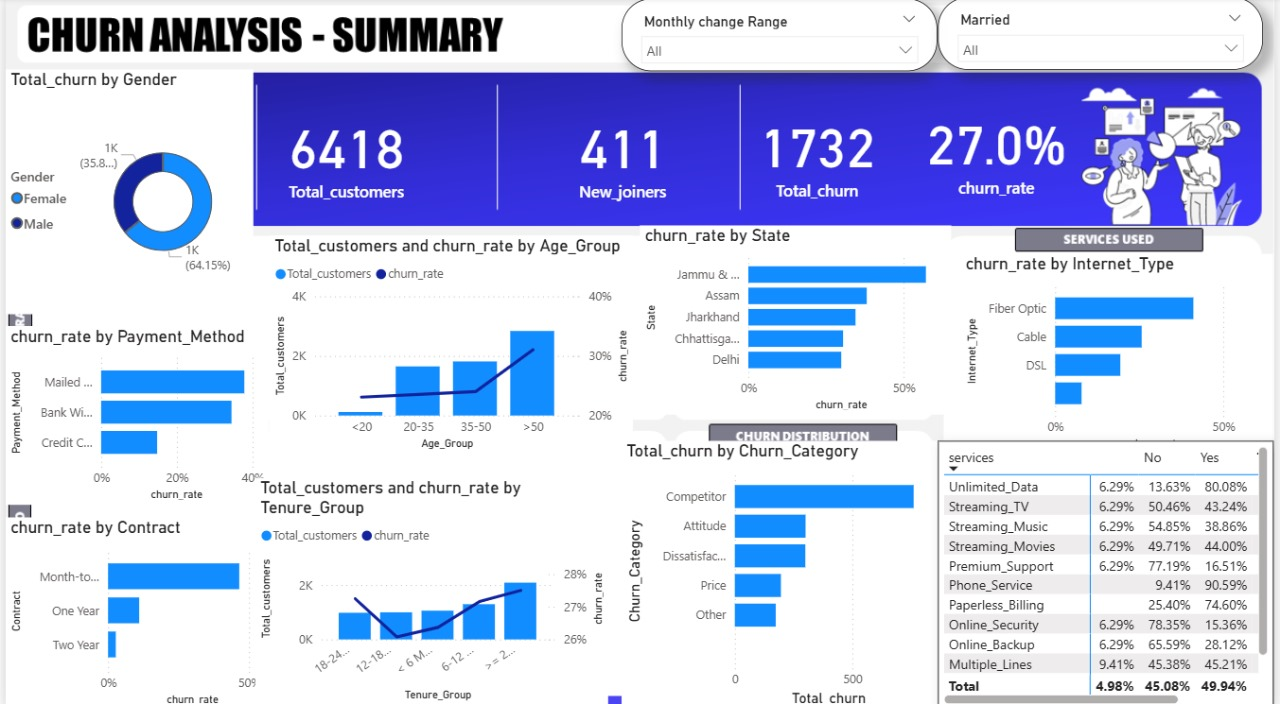

This screenshot's page, from the dashboard's own definition file:
{"tool":"powerbi","page":{"name":"summary","canvas":[1280,720],"ordinal":0},"visuals":[{"type":"card","fields":{"Values":["Table_measures.Total_customers"]},"box":[237.9,73.1,211.4,167.9],"z":0},{"type":"card","fields":{"Values":["Table_measures.New_joiners"]},"box":[548.8,79.3,147.7,157],"z":1000},{"type":"card","fields":{"Values":["Table_measures.Total_churn"]},"box":[724.5,79.3,188.1,155.5],"z":2000},{"type":"card","fields":{"Values":["Table_measures.churn_rate"]},"box":[893.9,76.2,211.4,155.5],"z":3000},{"type":"donutChart","fields":{"Category":["db_churn customer_data.Gender"],"Y":["Table_measures.Total_churn"]},"box":[0,73.1,250.3,247.2],"z":4000},{"type":"lineStackedColumnComboChart","fields":{"Category":["mapping_AgeGrp.Age_Group"],"Y":["Table_measures.Total_customers"],"Y2":["Table_measures.churn_rate"]},"box":[265.8,241,366.9,220.8],"z":5000},{"type":"clusteredBarChart","fields":{"Category":["db_churn customer_data.Payment_Method"],"Y":["Table_measures.churn_rate"]},"box":[0,332.7,265.8,180.3],"z":6000},{"type":"clusteredBarChart","fields":{"Category":["db_churn customer_data.Contract"],"Y":["Table_measures.churn_rate"]},"box":[0,525.5,290.7,194.3],"z":7000},{"type":"lineStackedColumnComboChart","fields":{"Category":["Mapping_TenureGrp.Tenure_Group"],"Y":["Table_measures.Total_customers"],"Y2":["Table_measures.churn_rate"]},"box":[251.9,485.1,356,230.1],"z":8000},{"type":"clusteredBarChart","fields":{"Category":["db_churn customer_data.State"],"Y":["Table_measures.churn_rate"]},"box":[640.5,230.1,314,191.2],"z":9000},{"type":"clusteredBarChart","fields":{"Category":["db_churn customer_data.Churn_Category"],"Y":["Table_measures.Total_churn"]},"box":[621.9,447.7,318.7,272.1],"z":10000},{"type":"clusteredBarChart","fields":{"Category":["db_churn customer_data.Internet_Type"],"Y":["Table_measures.churn_rate"]},"box":[963.9,259.6,315.6,202.1],"z":11000},{"type":"pivotTable","fields":{"Rows":["prod_services.services"],"Columns":["prod_services.status"],"Values":["Sum(prod_services.churn_status)"]},"box":[940.6,447.7,338.9,272.1],"z":12000},{"type":"slicer","fields":{"Values":["db_churn customer_data.Monthly change status"]},"box":[621.9,1.6,318.7,73.1],"z":13000},{"type":"slicer","fields":{"Values":["db_churn customer_data.Married"]},"box":[940.6,0,328,73.1],"z":14000}]}

Visuals, with their boxes in screenshot pixels (x1, y1, x2, y2), scaled from the page's 1280x720 canvas onto the 1280x704 screenshot:
card - Table_measures.Total_customers: bbox=[238, 71, 449, 236]
card - Table_measures.New_joiners: bbox=[549, 78, 696, 231]
card - Table_measures.Total_churn: bbox=[724, 78, 913, 230]
card - Table_measures.churn_rate: bbox=[894, 75, 1105, 227]
donutChart - db_churn customer_data.Gender x Table_measures.Total_churn: bbox=[0, 71, 250, 313]
lineStackedColumnComboChart - mapping_AgeGrp.Age_Group x Table_measures.Total_customers: bbox=[266, 236, 633, 452]
clusteredBarChart - db_churn customer_data.Payment_Method x Table_measures.churn_rate: bbox=[0, 325, 266, 502]
clusteredBarChart - db_churn customer_data.Contract x Table_measures.churn_rate: bbox=[0, 514, 291, 703]
lineStackedColumnComboChart - Mapping_TenureGrp.Tenure_Group x Table_measures.Total_customers: bbox=[252, 474, 608, 699]
clusteredBarChart - db_churn customer_data.State x Table_measures.churn_rate: bbox=[640, 225, 954, 412]
clusteredBarChart - db_churn customer_data.Churn_Category x Table_measures.Total_churn: bbox=[622, 438, 941, 703]
clusteredBarChart - db_churn customer_data.Internet_Type x Table_measures.churn_rate: bbox=[964, 254, 1279, 451]
pivotTable - prod_services.services x prod_services.status: bbox=[941, 438, 1279, 703]
slicer - db_churn customer_data.Monthly change status: bbox=[622, 2, 941, 73]
slicer - db_churn customer_data.Married: bbox=[941, 0, 1269, 71]
